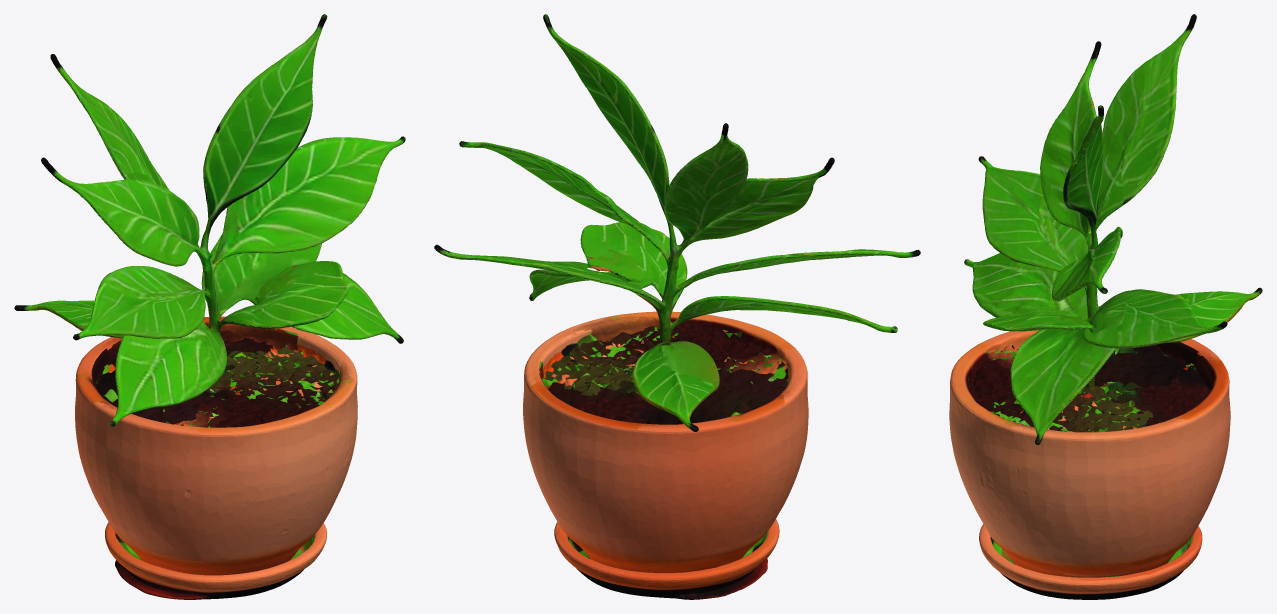
Rendered from growth-planter-b-generated-2026-04-18T01-36-15-986Z.high.glb.
3 views of the same model, side by side, from view 1: azimuth 30°, elevation 25°; view 2: azimuth 150°, elevation 25°; view 3: azimuth 270°, elevation 25° (orthographic).
Parts seen in each view (by area): view 1: temp_mesh.ply; view 2: temp_mesh.ply; view 3: temp_mesh.ply.
Boxes of the visible parts, bbox=[...] form: temp_mesh.ply: bbox=[14, 14, 405, 599]; temp_mesh.ply: bbox=[434, 14, 920, 599]; temp_mesh.ply: bbox=[949, 14, 1262, 599].
Size of the model in its own units: 1.57 by 1.97 by 1.08.
Materials: 1 (1 with a texture image).
